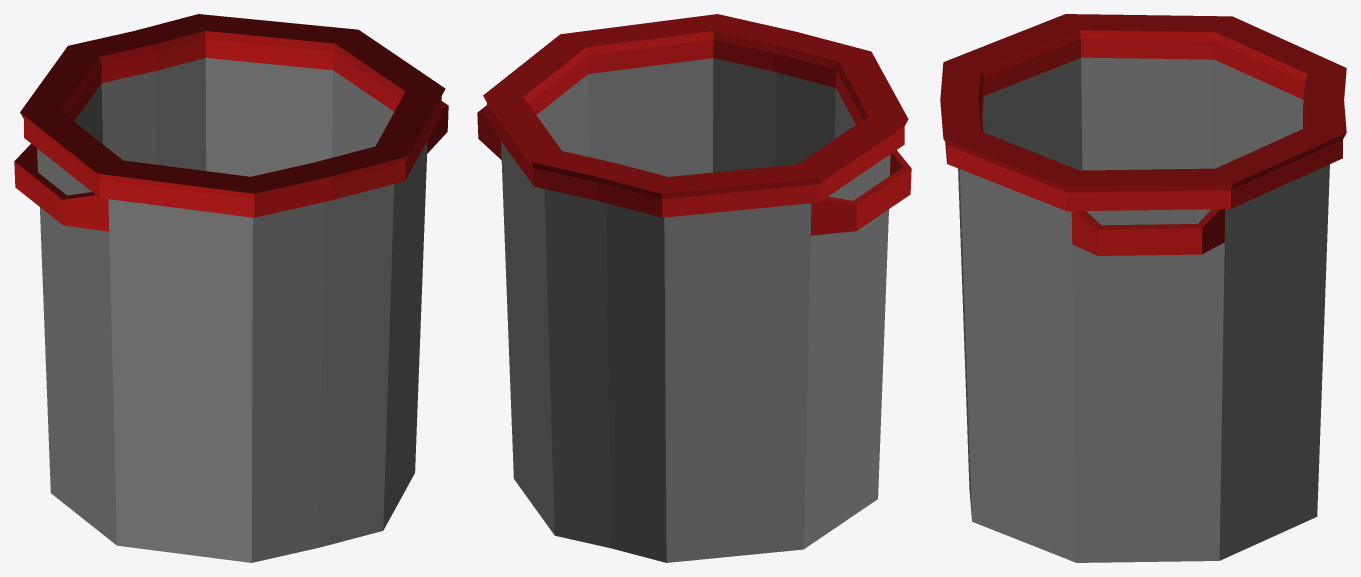
Rendered from Trash Can 2.fbx.
The picture shows the model from 3 angles, left to right: view 1: azimuth 30°, elevation 25°; view 2: azimuth 150°, elevation 25°; view 3: azimuth 270°, elevation 25°; orthographic projection.
Visible parts, largest first — view 1: Node 0; view 2: Node 0; view 3: Node 0.
Boxes of the visible parts, x1,y1,x2,y2 form: Node 0: (14, 14, 448, 562); Node 0: (477, 14, 911, 562); Node 0: (940, 14, 1346, 562).
Bounding box in the file's own units: 0.3059 × 0.3227 × 0.3411.
